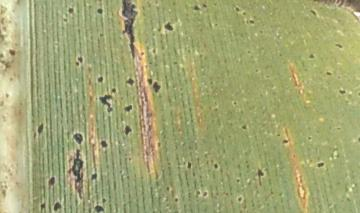tarspot: (117, 1, 140, 61), (67, 148, 86, 201), (98, 94, 115, 113), (70, 131, 85, 146), (122, 124, 135, 137), (163, 20, 176, 32), (36, 121, 45, 137), (122, 102, 134, 113), (53, 202, 64, 213), (309, 7, 319, 19), (46, 176, 57, 186), (89, 171, 100, 181), (125, 76, 135, 87), (337, 86, 347, 97), (307, 51, 318, 61), (334, 41, 345, 51), (146, 76, 155, 88), (7, 48, 18, 57), (93, 205, 105, 213), (152, 81, 160, 93), (99, 138, 108, 148), (96, 75, 105, 85), (316, 160, 325, 170), (236, 194, 245, 204), (245, 18, 257, 25), (67, 6, 76, 15), (96, 6, 105, 15), (193, 2, 202, 11), (185, 160, 194, 169), (233, 5, 243, 13), (241, 123, 249, 132), (201, 2, 209, 11), (281, 138, 291, 145), (256, 169, 264, 177), (77, 55, 84, 64), (156, 140, 163, 149), (139, 50, 146, 59), (39, 202, 47, 209), (212, 162, 220, 169), (165, 184, 171, 193), (173, 197, 181, 203), (325, 70, 333, 76), (241, 11, 250, 16), (234, 178, 243, 183), (75, 60, 82, 66), (203, 191, 208, 199)
